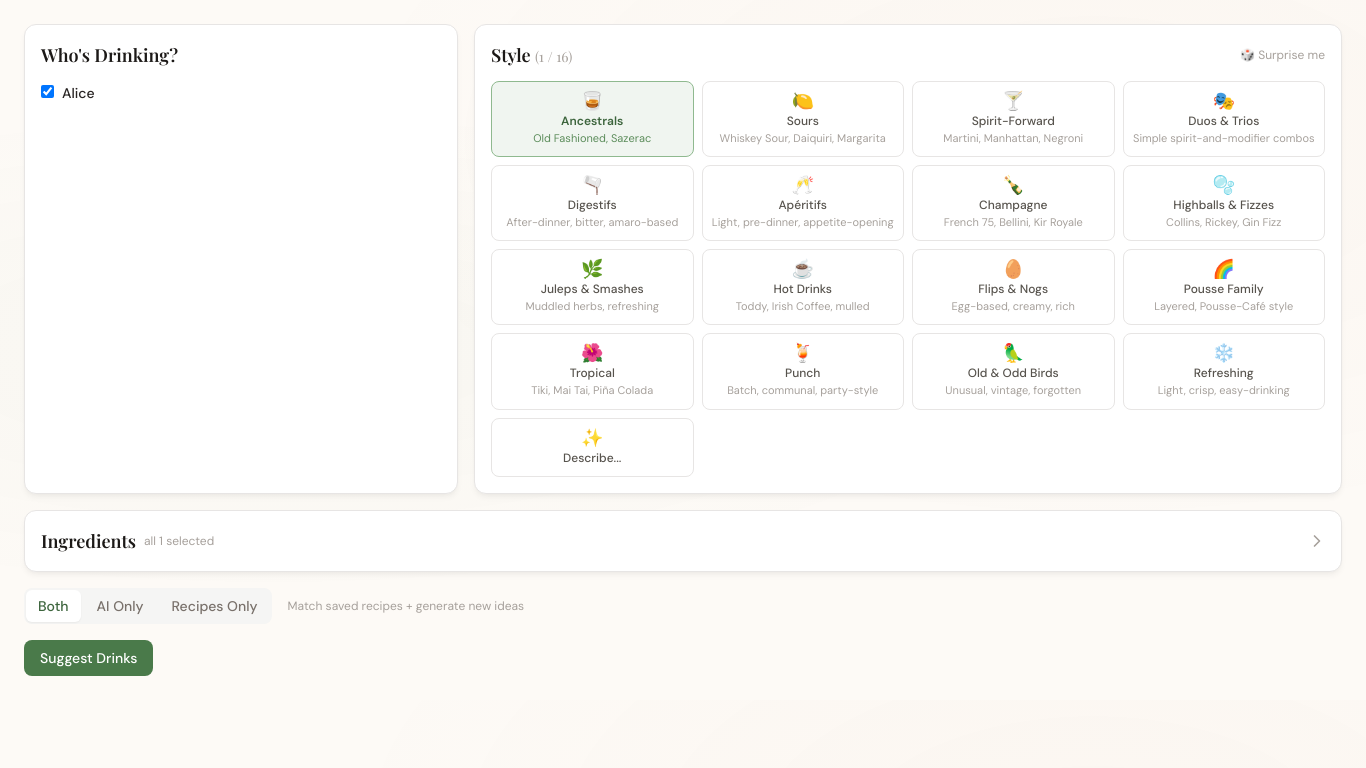
Test: CocktailSuggester › recipes-only source skips the stream and matches saved recipes against the bar
The image size is (1366, 768).
Expected: the button "Suggest Drinks" is enabled, [24,640,153,676]
// Pick the "Recipes Only" source.
Click the button "Recipes Only" at (214, 606), box [160,590,270,622]
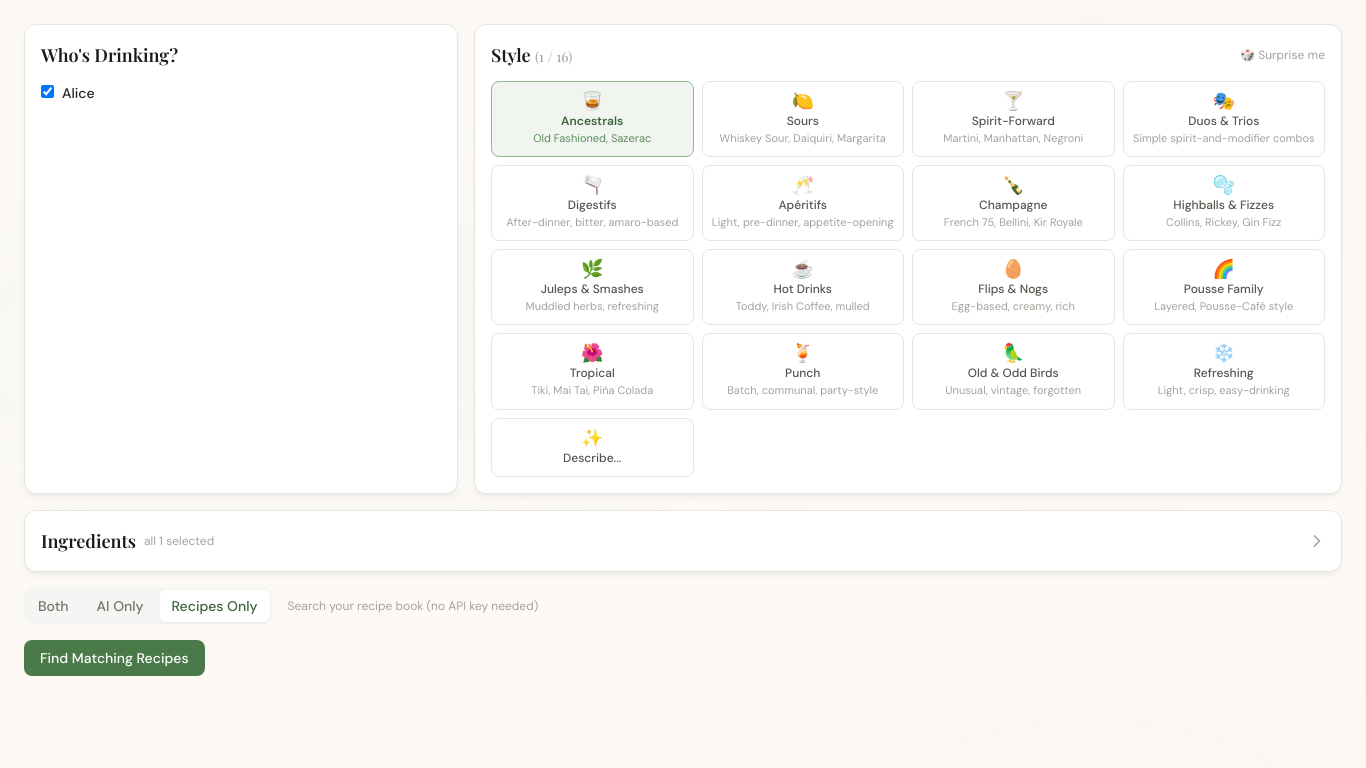
// Button text flips to the recipes-only phrasing.
Click the button "Find Matching Recipes" at (114, 658), box [24,640,204,676]
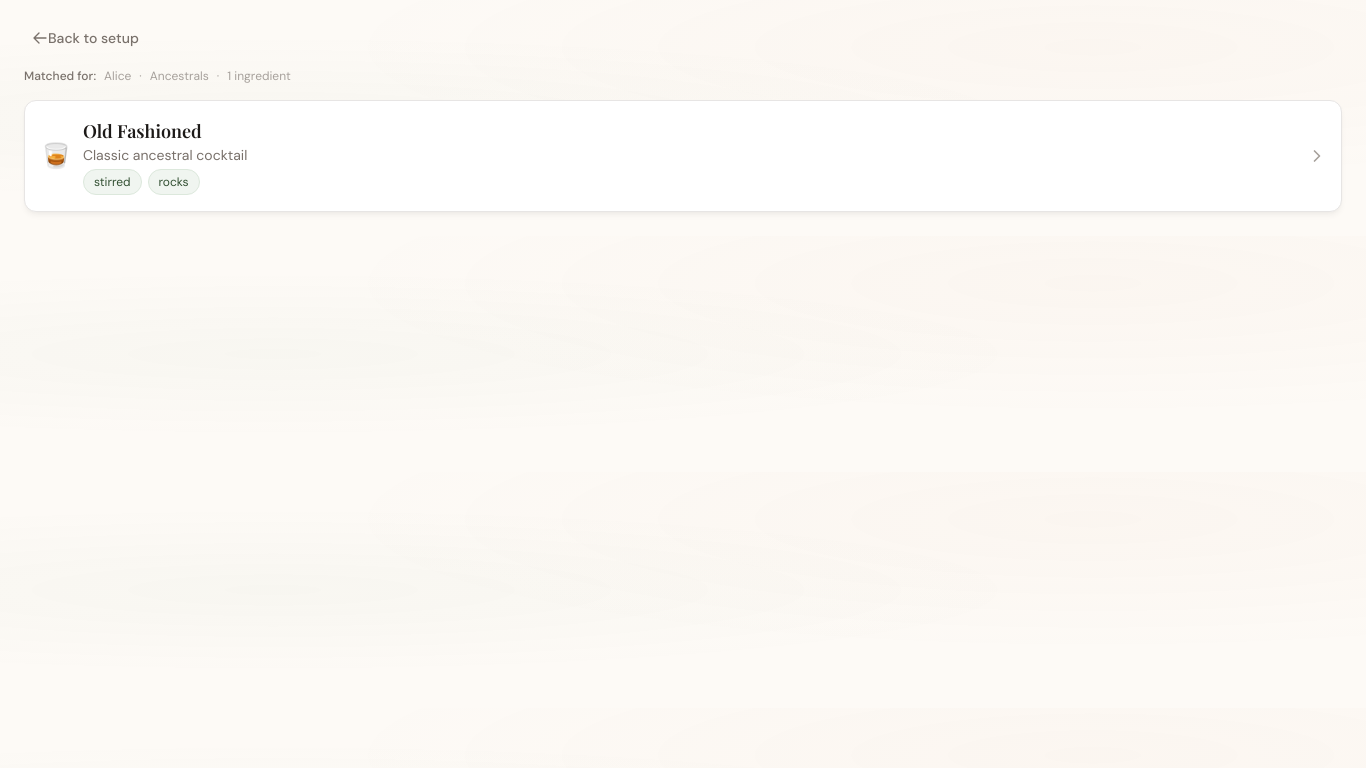
Expected: the heading "Old Fashioned" is shown, [83,119,202,143]
Now the text "Classic ancestral cocktail" is shown, box [83,146,247,164]
